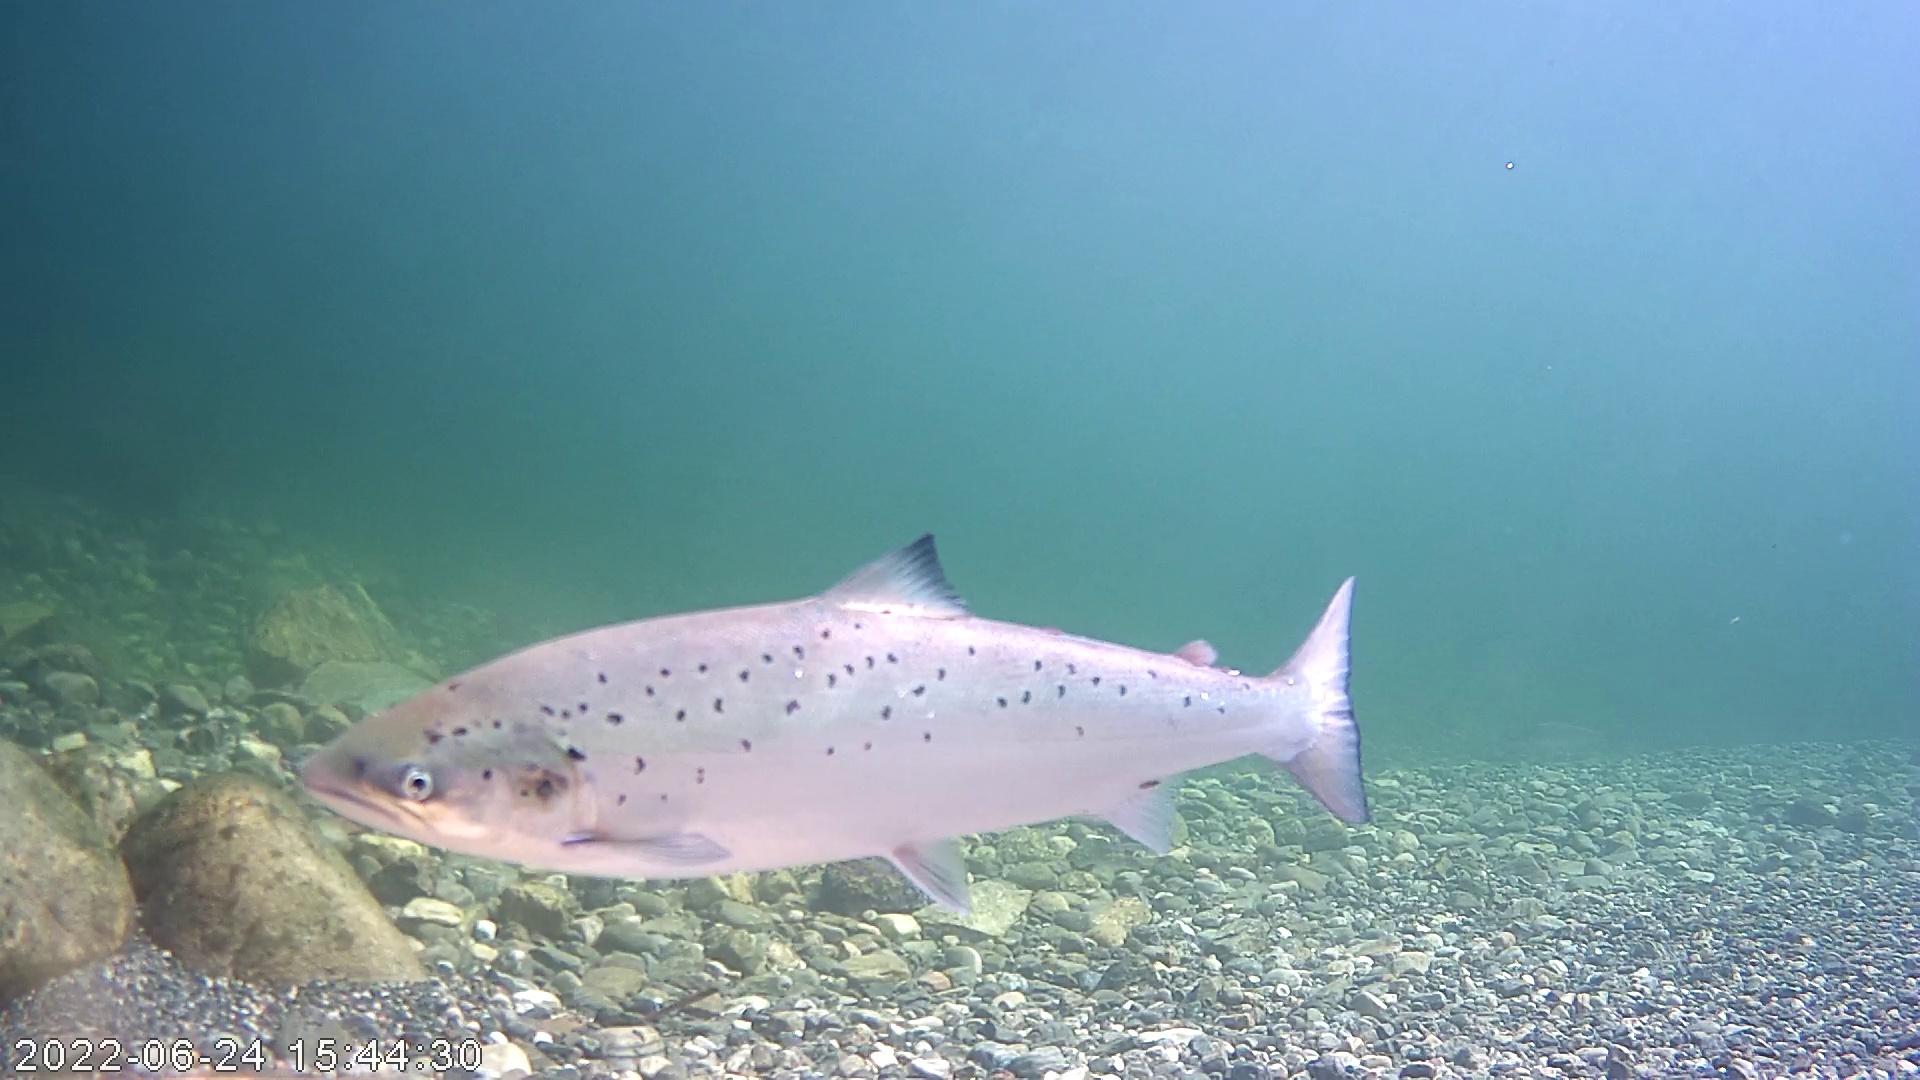salmon: (294, 531, 1367, 913)
